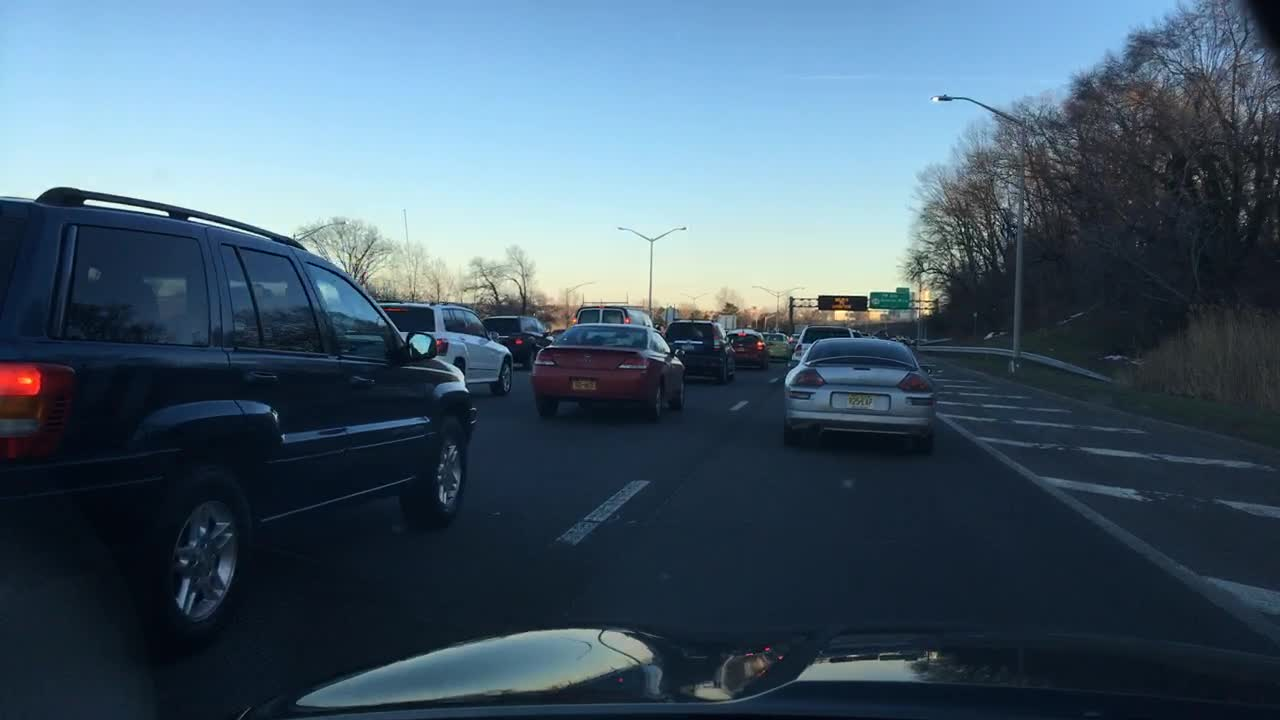car: (0, 183, 482, 652), (782, 336, 939, 452), (529, 322, 688, 421), (373, 298, 514, 398), (663, 317, 737, 387), (482, 314, 558, 374), (783, 323, 860, 376), (570, 304, 655, 327), (725, 328, 770, 367), (762, 331, 797, 362)
traffic sign: (868, 286, 912, 311), (817, 294, 867, 312), (660, 304, 680, 327), (717, 313, 738, 329)
